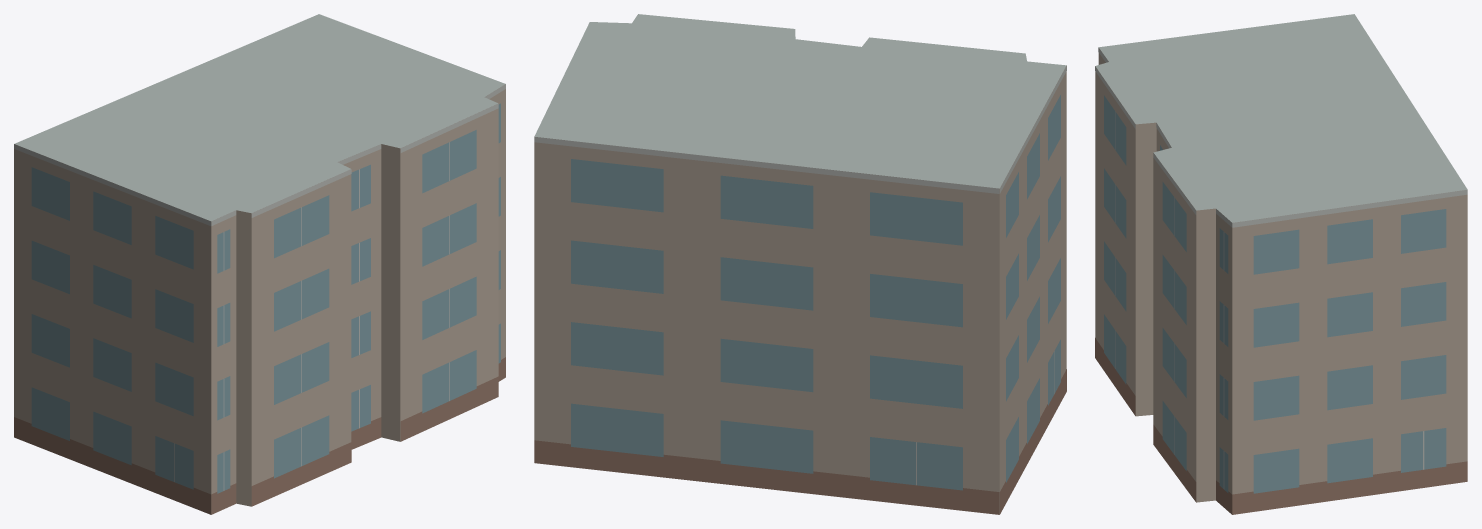
File: survey-upis-32867929.glb
3 renders of one model, left to right at view 1: azimuth 30°, elevation 25°; view 2: azimuth 150°, elevation 25°; view 3: azimuth 270°, elevation 25°, orthographic. The views are drawn at different scales.
Visible parts, largest first — view 1: survey-upis-32867929.tmp; view 2: survey-upis-32867929.tmp; view 3: survey-upis-32867929.tmp.
Part boxes in pixels (box(x1,y1,x2,y2)): survey-upis-32867929.tmp: box(14, 14, 505, 514); survey-upis-32867929.tmp: box(534, 14, 1066, 514); survey-upis-32867929.tmp: box(1095, 14, 1467, 514).
Size of the model in its own units: 22.16 by 14.44 by 16.71.
